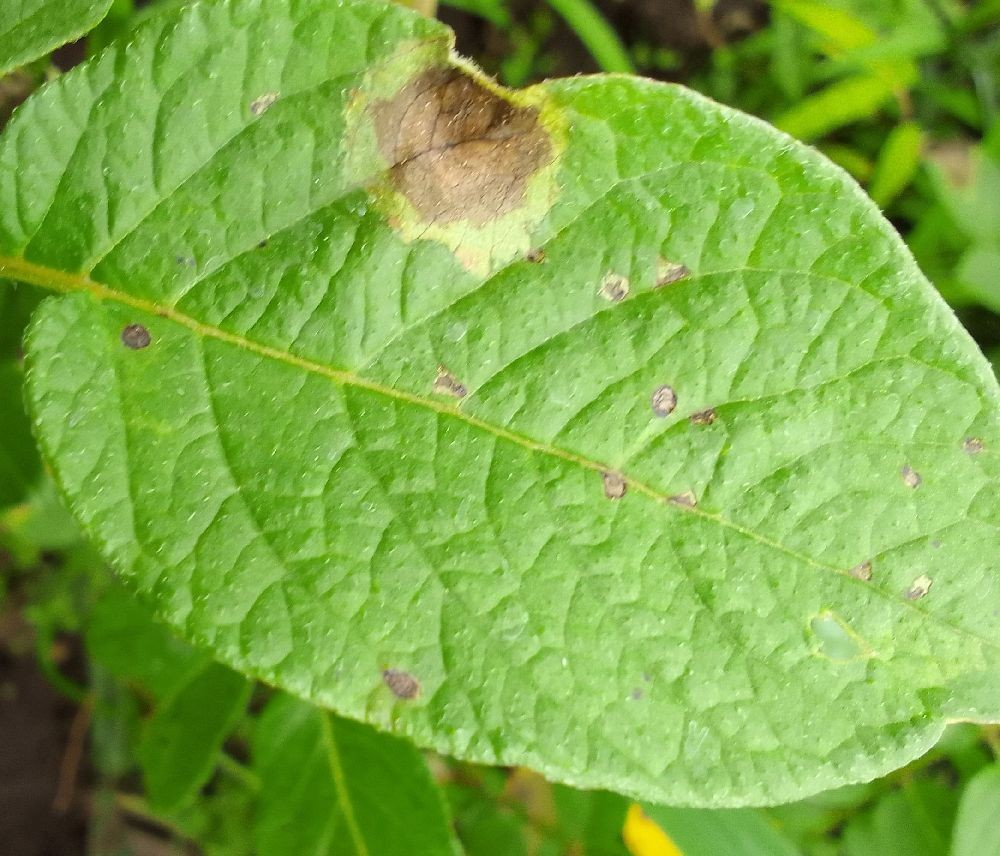late_blight: (0, 509, 246, 856), (349, 0, 618, 249), (571, 0, 792, 110)
